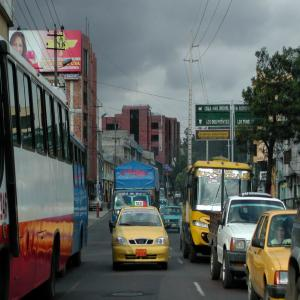Vehicle-registration-plate: (137, 250, 148, 258)
